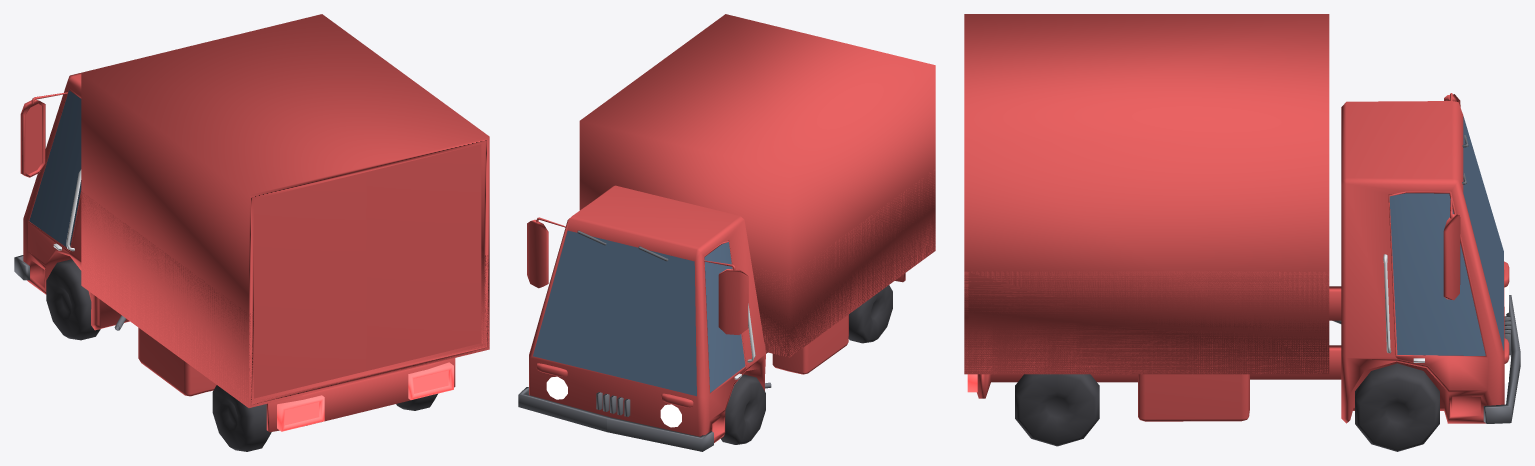
The model's file is cv-truck.glb.
3 renders of one model, left to right at view 1: azimuth 30°, elevation 25°; view 2: azimuth 150°, elevation 25°; view 3: azimuth 270°, elevation 25°, orthographic. The views are drawn at different scales.
Parts seen in each view (by area): view 1: ID434, CaseDoorR, CaseDoorL, ID461, Glass, ID15, Cabin, WheelFL, WheelRL, TankL, ID316, ID52 (+3 smaller); view 2: ID434, WindowFront.1, Cabin, ID461, BumperFront, Glass, WheelFL, ID70, TankL, WheelRL, ID124, ID52 (+1 smaller); view 3: ID434, Cabin, ID461, Glass.2, WheelFR, TankR, WheelRR, WindowFront.1, ID106, BumperFront, ID124, ID6 (+1 smaller).
Boxes of the visible parts, box(x1,y1,x2,y2) form: ID434: box(81, 14, 489, 407); CaseDoorR: box(366, 144, 481, 370); CaseDoorL: box(254, 172, 366, 398); ID461: box(81, 191, 489, 407); Glass: box(29, 90, 81, 247); ID15: box(266, 358, 455, 432); Cabin: box(23, 73, 129, 330); WheelFL: box(46, 259, 100, 340); WheelRL: box(212, 385, 271, 451); TankL: box(138, 327, 216, 396); ID316: box(277, 362, 453, 431); ID52: box(28, 88, 81, 263); ID434: box(579, 14, 935, 357); WindowFront.1: box(533, 230, 696, 396); Cabin: box(529, 185, 765, 442); ID461: box(753, 169, 935, 357); BumperFront: box(518, 387, 713, 451); Glass: box(704, 242, 745, 392); WheelFL: box(720, 374, 765, 444); ID70: box(718, 269, 748, 334); TankL: box(772, 314, 848, 374); WheelRL: box(848, 285, 892, 343); ID124: box(527, 219, 548, 288); ID52: box(703, 240, 746, 420); ID434: box(964, 14, 1329, 374); Cabin: box(1341, 101, 1504, 423); ID461: box(964, 271, 1329, 373); Glass.2: box(1389, 193, 1485, 355); WheelFR: box(1355, 363, 1439, 451); TankR: box(1138, 374, 1249, 421); WheelRR: box(1015, 374, 1099, 446); WindowFront.1: box(1463, 116, 1503, 350); ID106: box(1388, 191, 1487, 389); BumperFront: box(1483, 295, 1520, 423); ID124: box(1443, 214, 1460, 300); ID6: box(1250, 286, 1341, 379).
Bounding box in the file's own units: 2.5 × 2.77 × 4.36.
